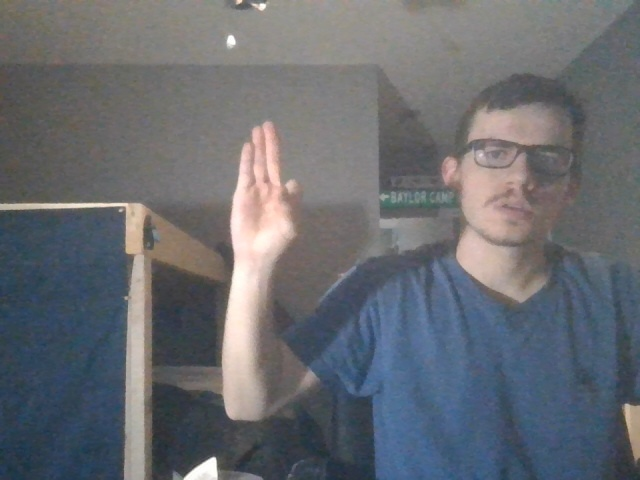F: (223, 112, 311, 269)
